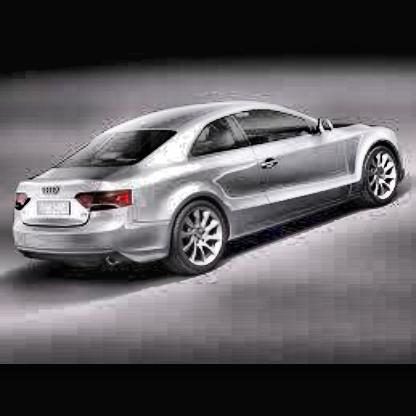Audi A5 Coupe 2012: (14, 97, 405, 286)
